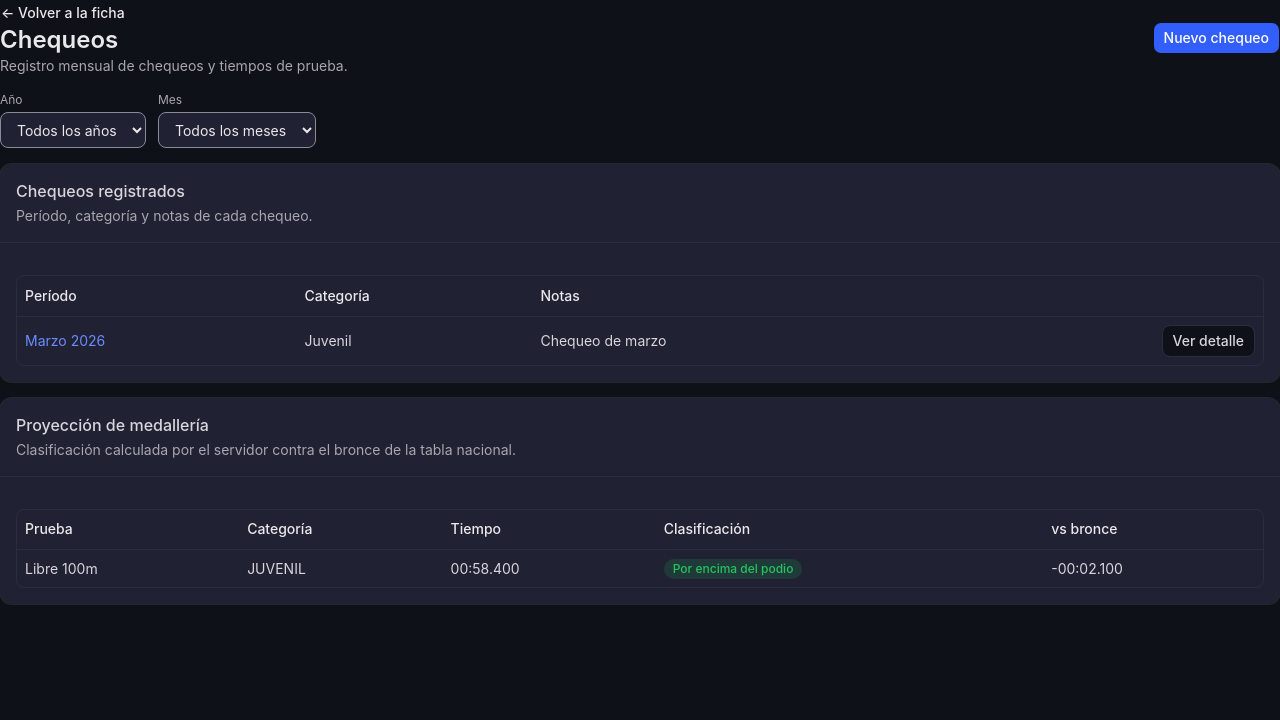
Test case: CheckupFormDialog — validación local y alta (C5) › duplicado (year, month, category) detectado en cliente contra la lista cargada
Click the button with test id "checkup-new-button".
click(1216, 38)  # box [1153,22,1279,54]
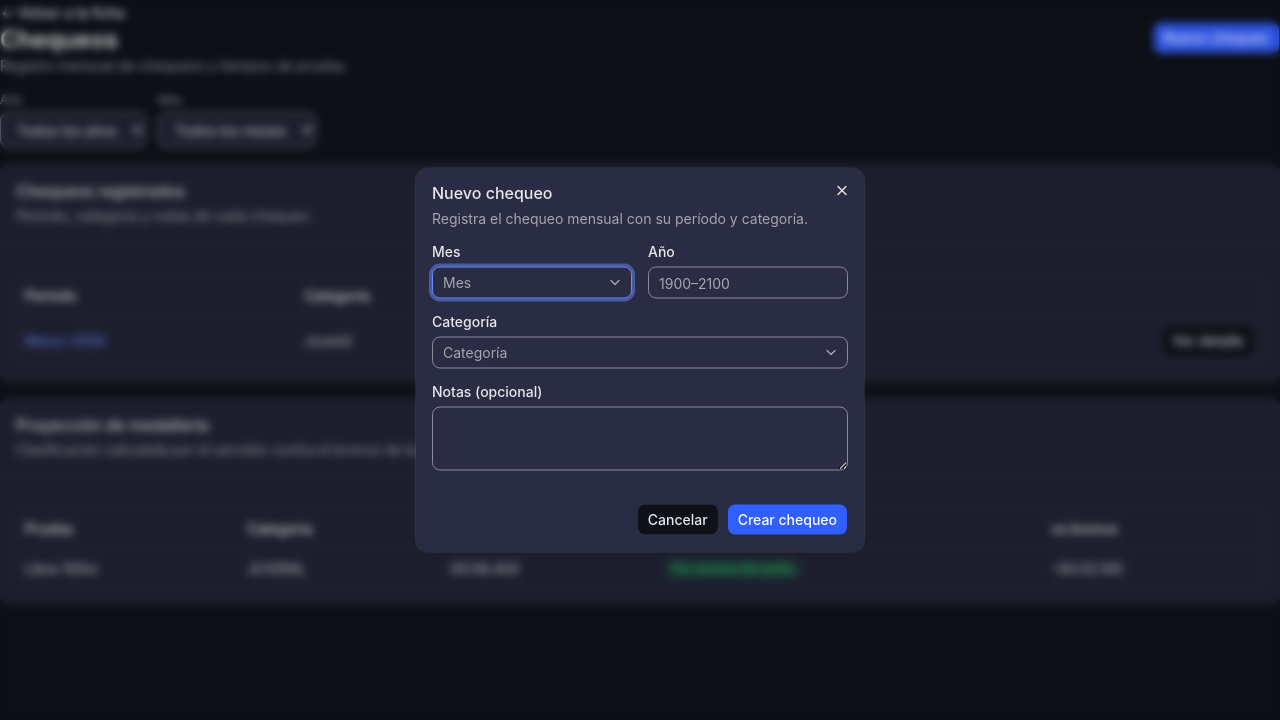
Check: the dialog with test id "checkup-form-dialog" is shown, box [416,168,864,552]
Click the dropdown with test id "checkup-form-month".
click(532, 282)  # box [432,266,632,298]
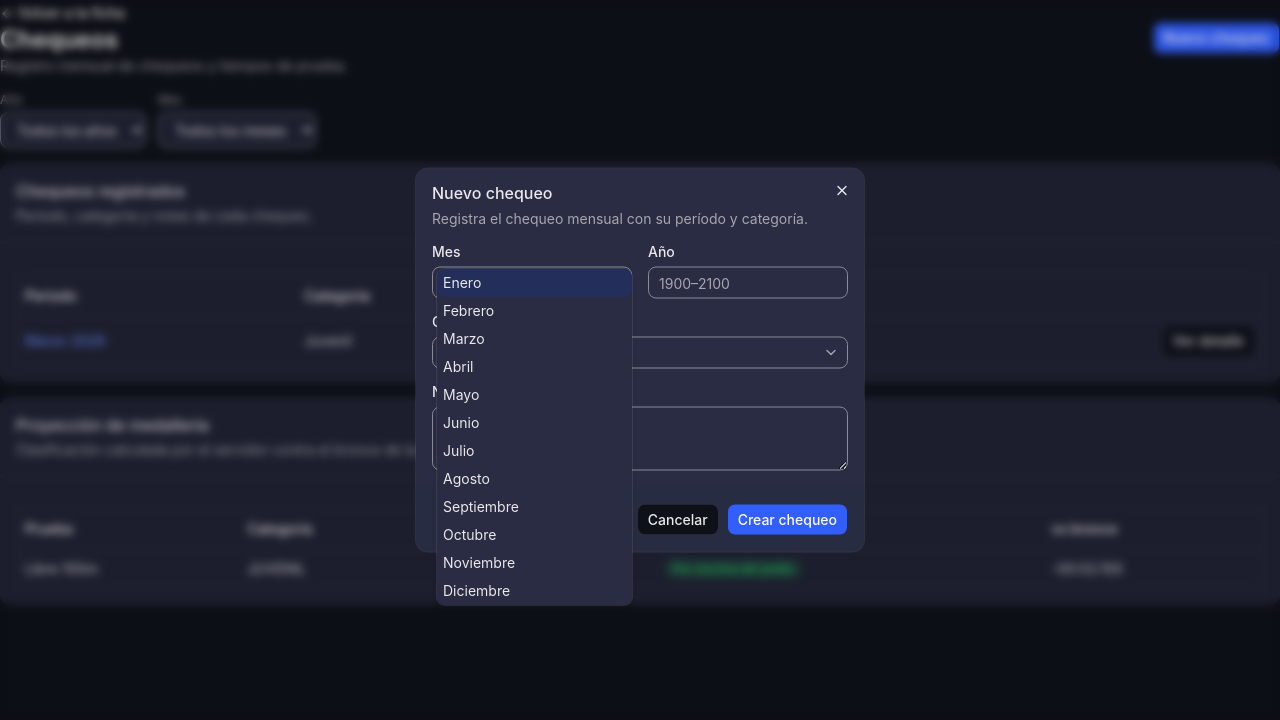
Click the option "Marzo".
click(464, 338)  # box [443,330,485,346]
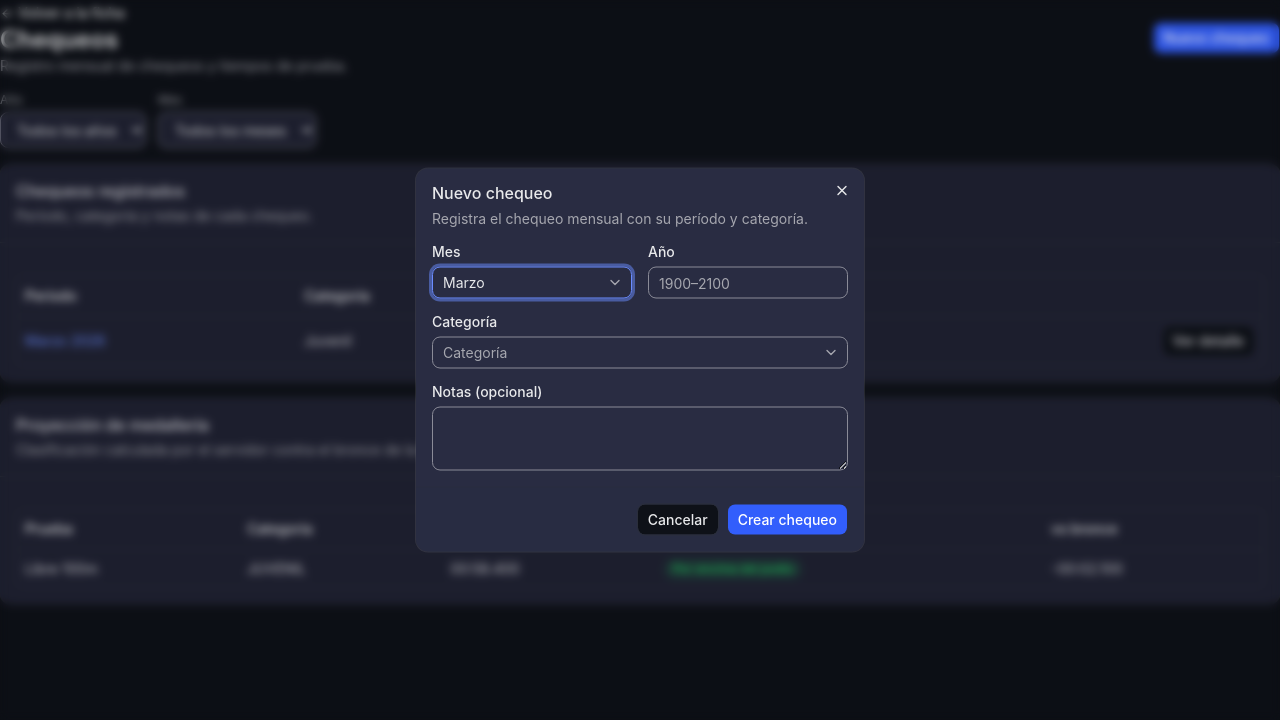
Type "2026" into the number field with test id "checkup-form-year".
click(748, 282); type("2026")  # box [648,266,848,298]
Click the dropdown with test id "checkup-form-category".
click(475, 352)  # box [432,336,848,368]
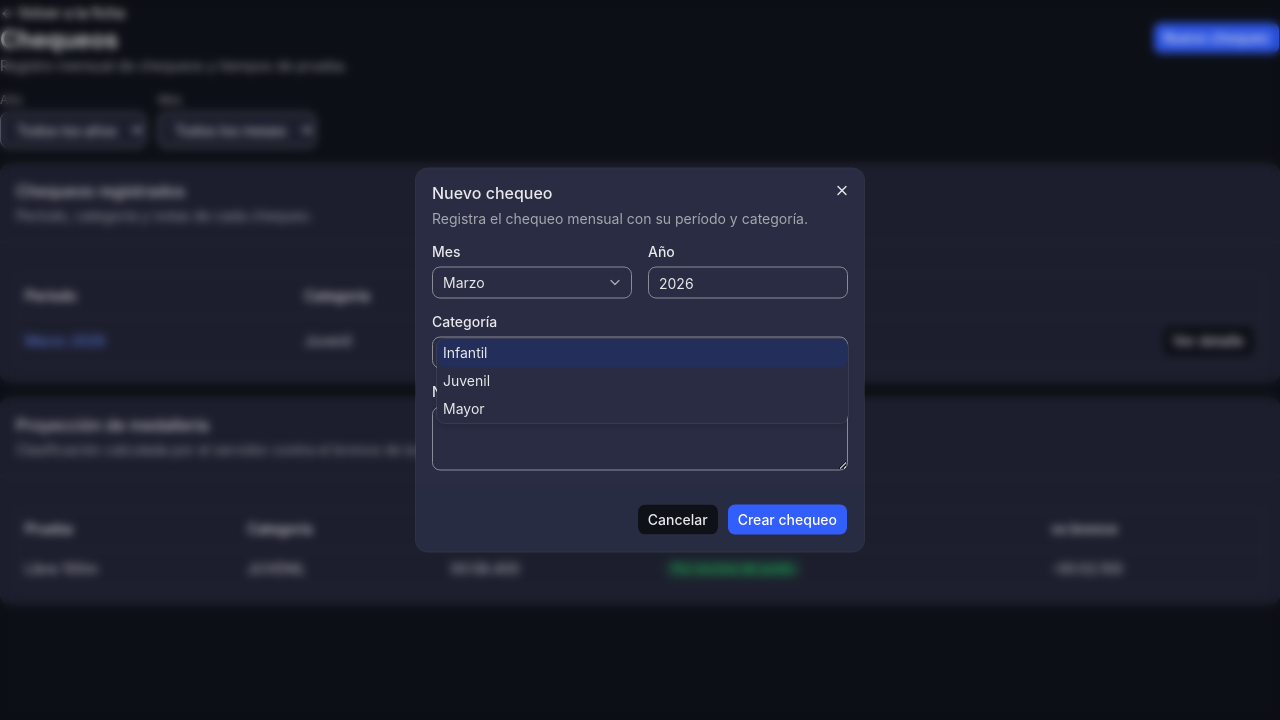
Click the option "Juvenil".
click(467, 380)  # box [443,372,490,388]
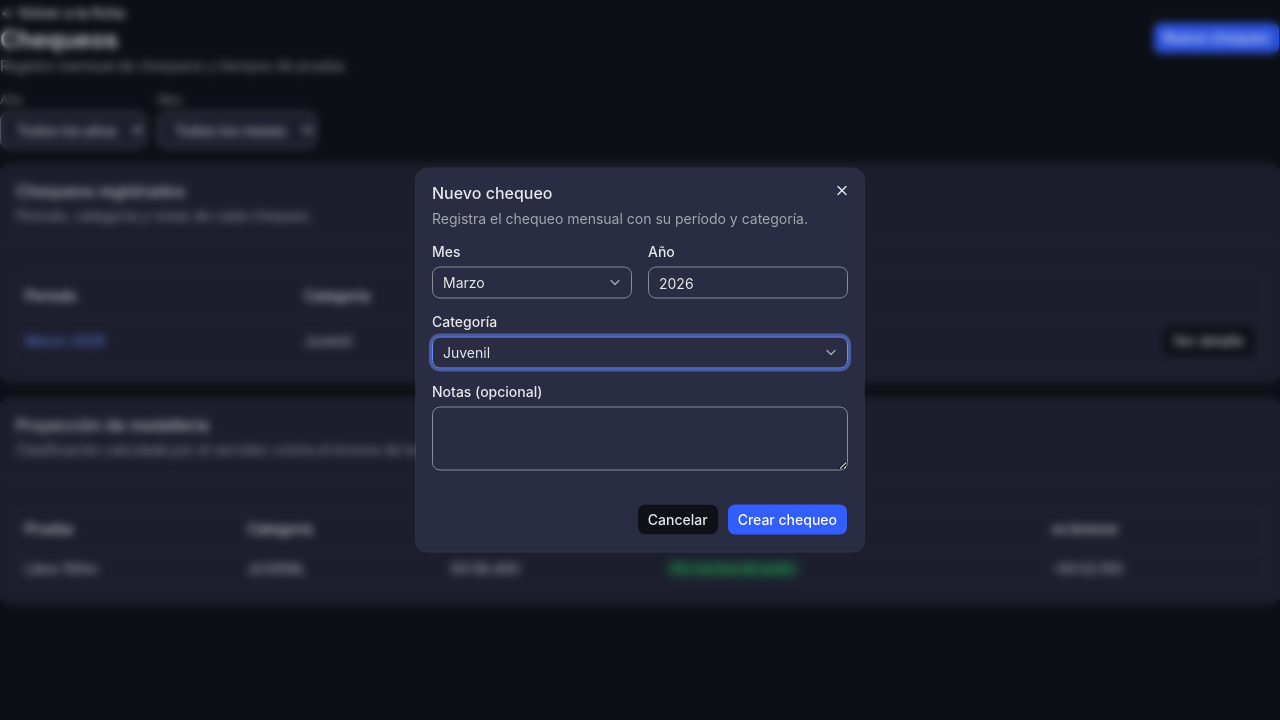
Click the button with test id "checkup-form-submit".
click(787, 520)  # box [727,504,848,536]
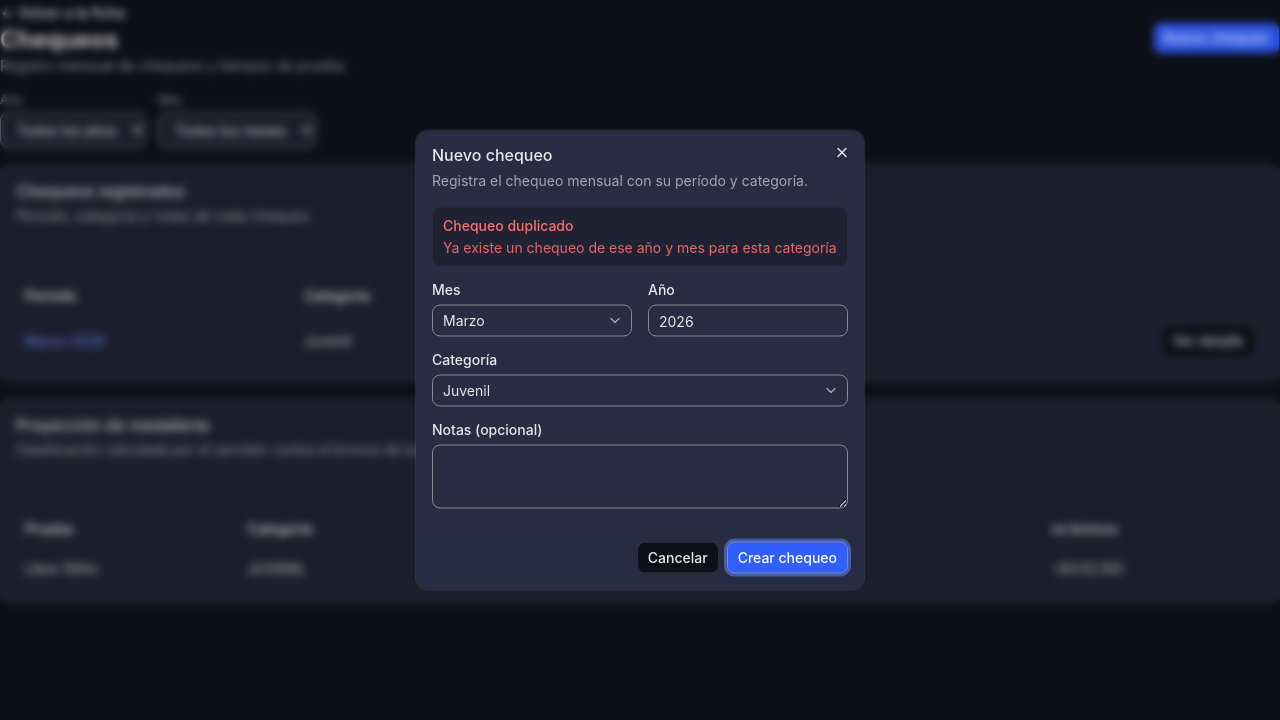
Check: the message "Chequeo duplicado Ya existe un chequeo de ese año y mes para esta categoría" is shown, box [432,206,848,266]
